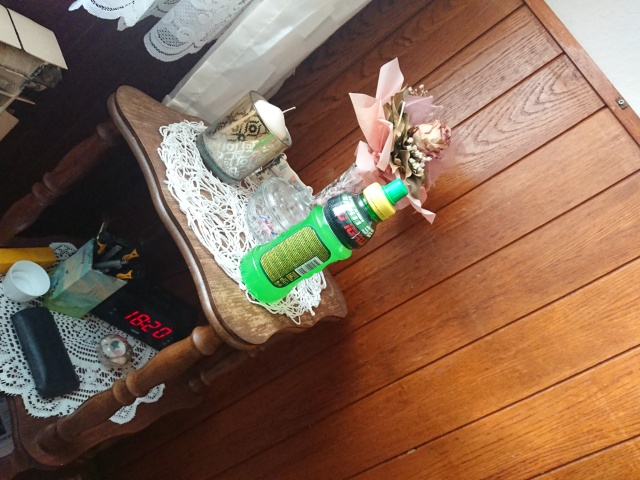Vindi Iso Sport Lemon-Grapefruit 500mL: (236, 176, 410, 306)
